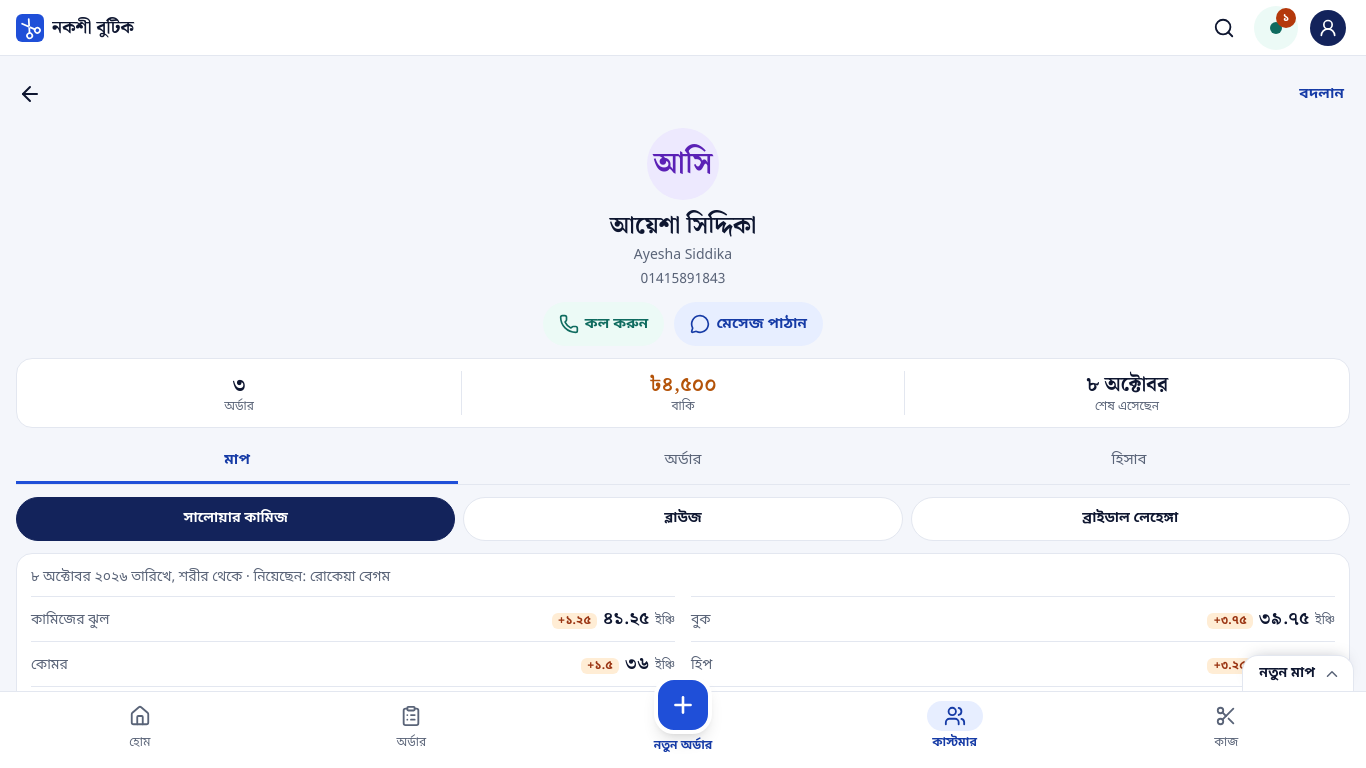
Customer dock › starts as a small new-measurement tab, opens, and hides again
Expected: the link "আবার অর্ডার" is not shown
Click the button with aria-label "বার দেখান". click: (1298, 673)
box: [1242, 655, 1354, 691]
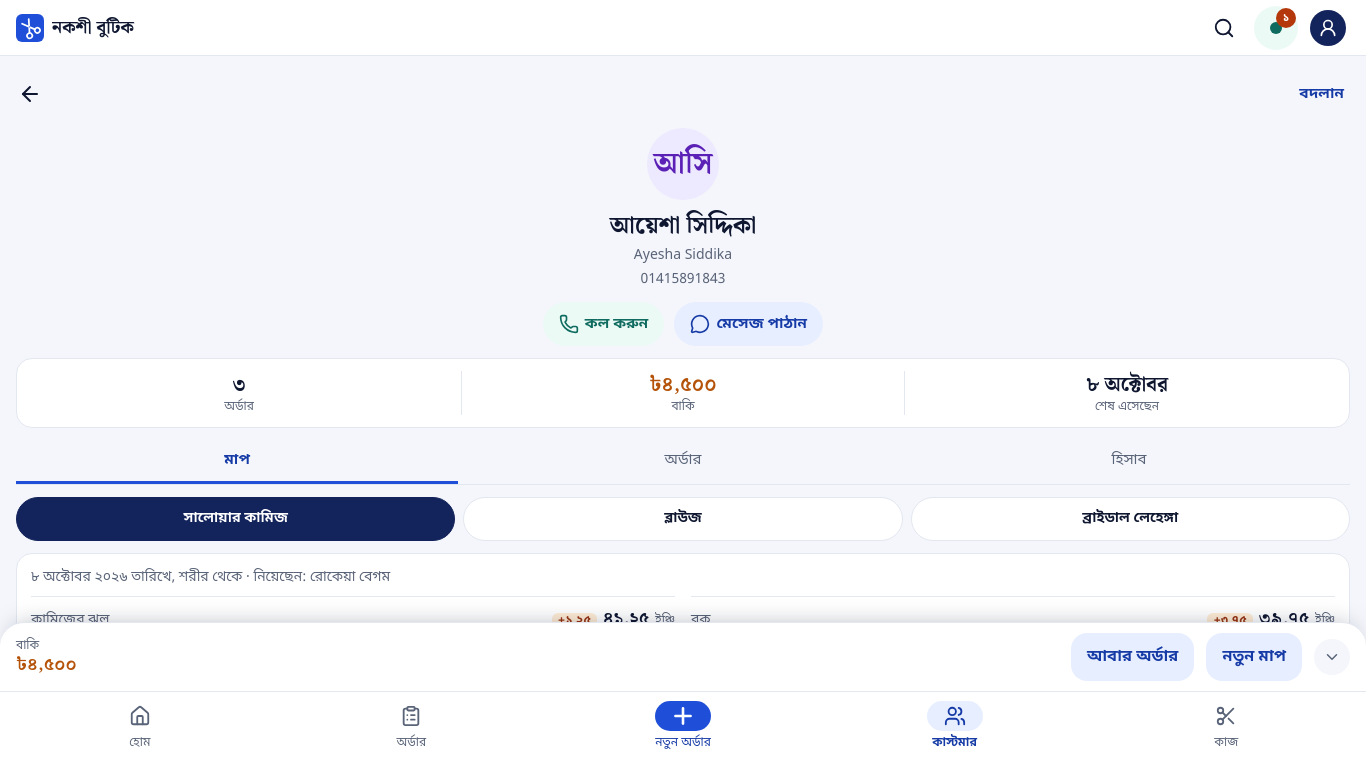
Expected: the link "আবার অর্ডার" is shown, [1071, 633, 1194, 681]
Click the button named "বার লুকান". click: (1332, 657)
box: [1314, 639, 1350, 675]
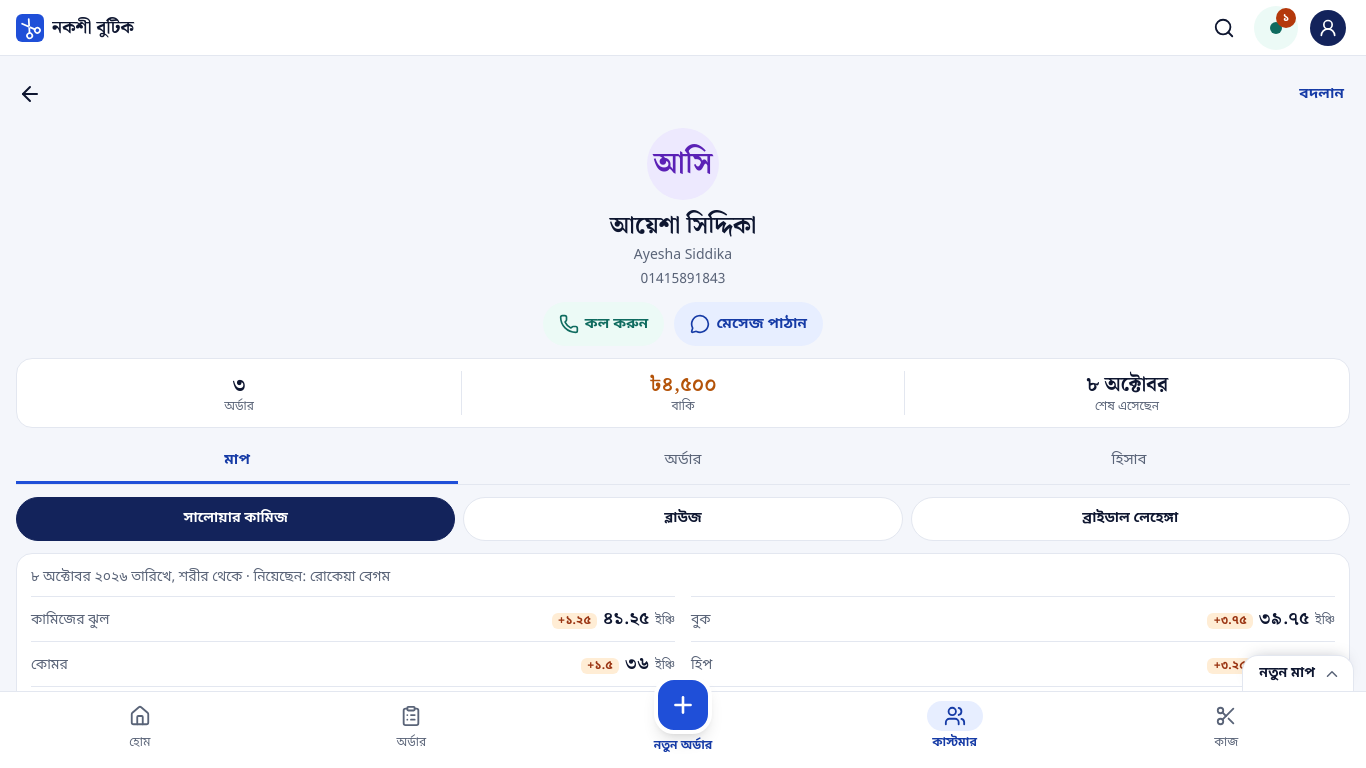
Expected: the link "আবার অর্ডার" is gone
Expected: the button with aria-label "বার দেখান" is shown, [1242, 655, 1354, 691]
